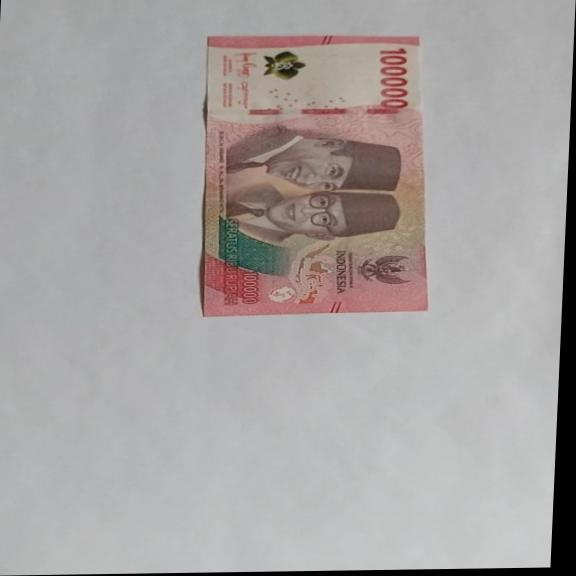Kertas: (194, 33, 440, 317)
